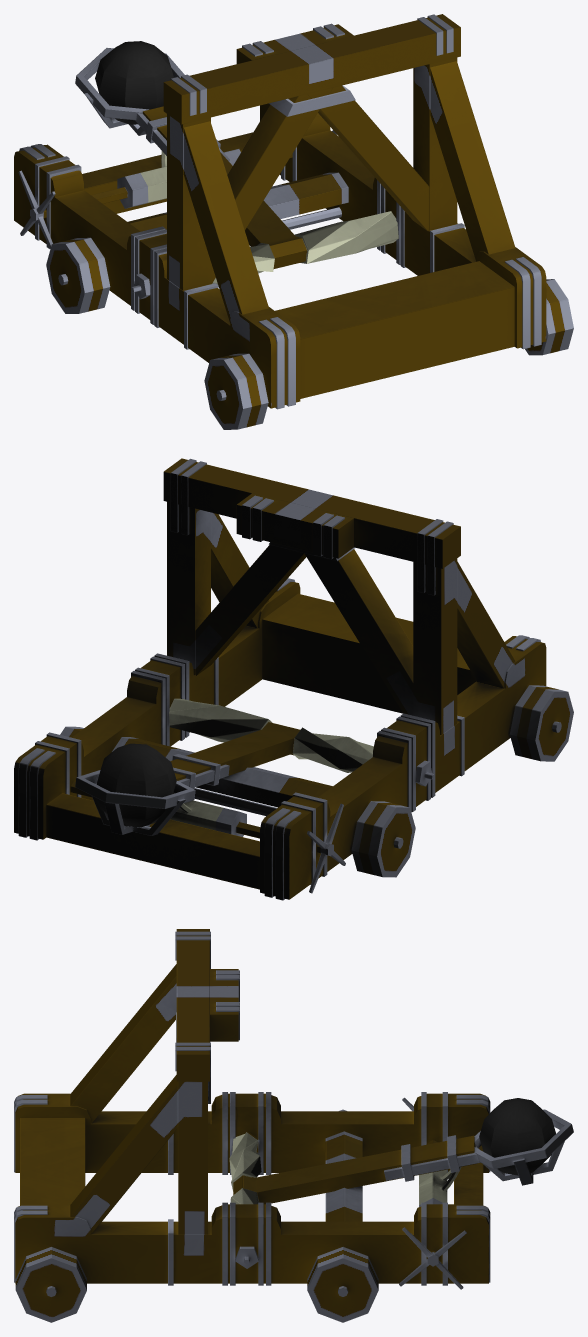
File: mangonel.glb
3 renders of one model, top to bottom at view 1: azimuth 30°, elevation 25°; view 2: azimuth 150°, elevation 25°; view 3: azimuth 270°, elevation 25°, orthographic. The views are drawn at different scales.
Parts seen in each view (by area): view 1: Mangonel; view 2: Mangonel; view 3: Mangonel.
Part boxes in pixels (box(x1,y1,x2,y2)): Mangonel: box(14, 14, 573, 429); Mangonel: box(14, 458, 573, 900); Mangonel: box(14, 929, 573, 1322).
Bounding box in the file's own units: 1.29 × 1.02 × 2.
Materials: 1 (1 with a texture image).
